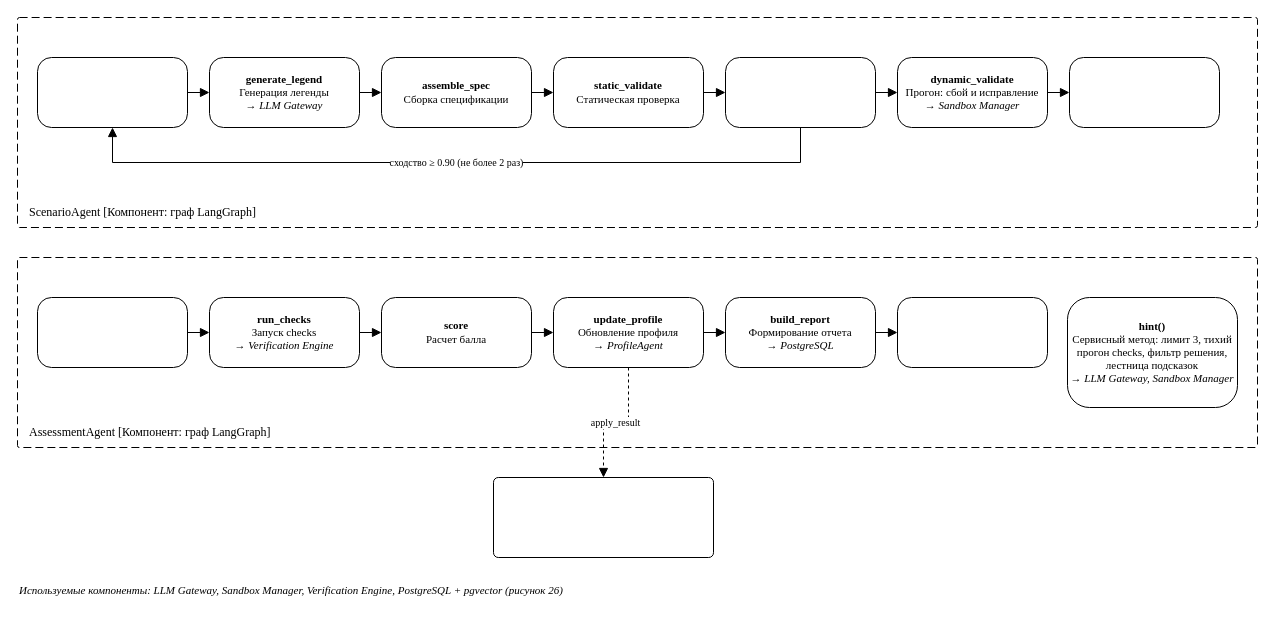
The diagram is 1275 pixels wide and 619 high, and some of its shapes have lost their labels. The shapes that lost their labels are listed below. From the top down, each one's centre as x and y in pixels, then its label:
point 112,92: select_params Выбор параметров и сбоя
point 800,92: dedup Проверка уникальности → PostgreSQL + pgvector
point 1144,92: publish_or_reject Публикация или отклонение → PostgreSQL
point 112,332: collect_trace Сбор цифрового следа → PostgreSQL
point 972,332: cleanup Очистка среды → Sandbox Manager
point 603,517: ProfileAgent [Компонент: сервис] deficits(), recommendations(), apply_result()
